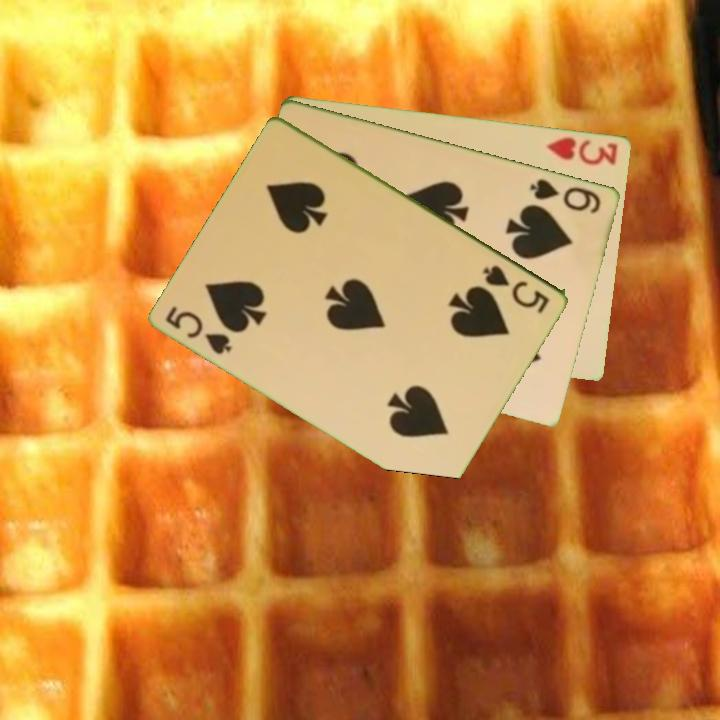3h: (544, 133, 621, 168)
5s: (162, 302, 236, 358), (480, 261, 553, 316)
6s: (527, 174, 604, 216)
